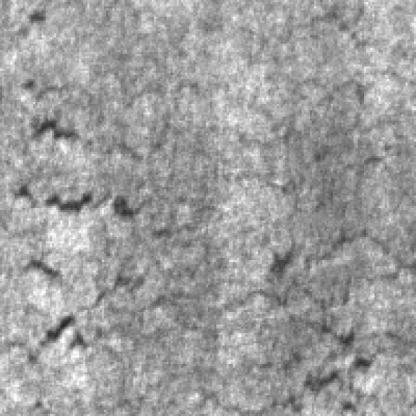crazing: (17, 224, 396, 408), (14, 76, 372, 216)
